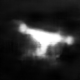plane: (14, 17, 76, 64)
